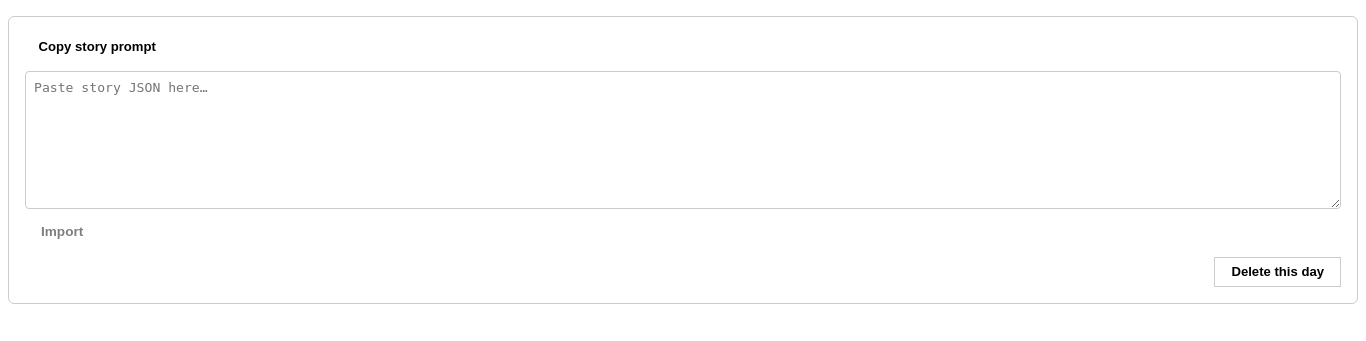
ManualStoryPanel › shows a non-Error copy rejection as text
What coordinates should you click on to do the following:
click the button "Copy story prompt"
I would click on:
 (97, 46)
Its box is [25, 33, 170, 59].
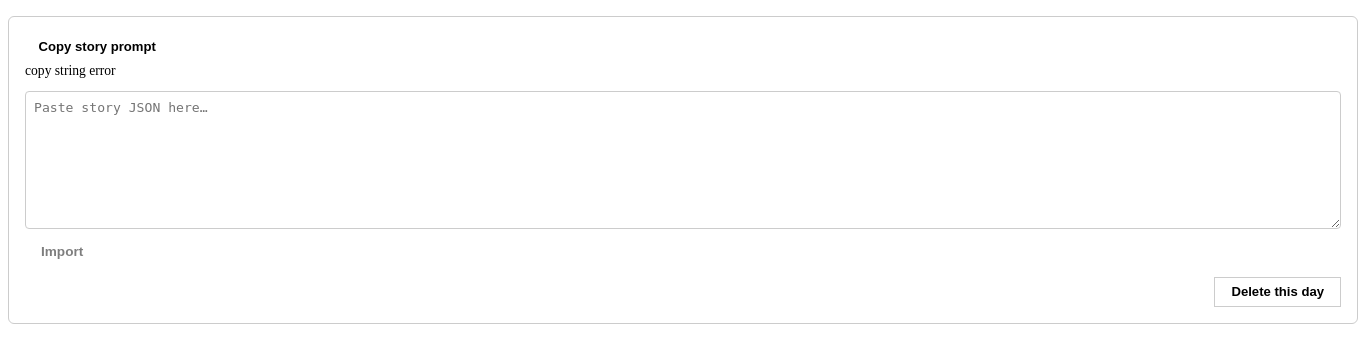
Result: the text "copy string error" is shown at [25, 63, 116, 78]
